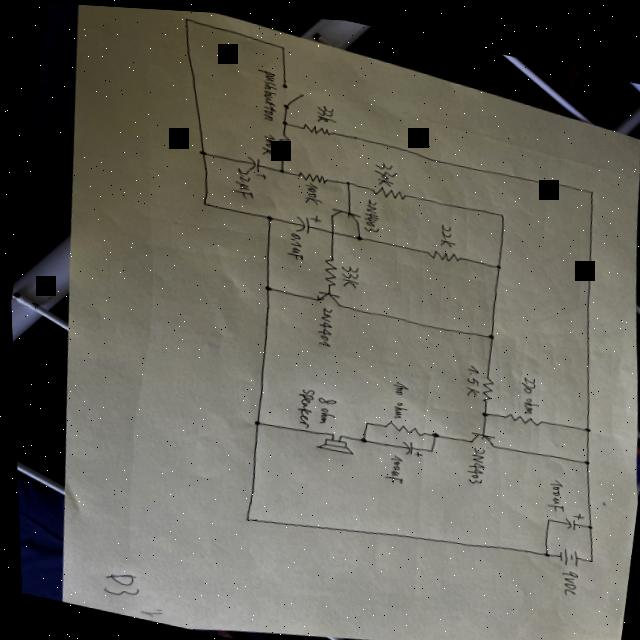capacitor: (243, 152, 268, 177), (292, 208, 317, 232), (558, 503, 582, 525), (396, 434, 421, 454)
crossover: (325, 225, 334, 232)
junction: (476, 404, 487, 413), (482, 327, 493, 335), (248, 416, 259, 424), (278, 115, 289, 123), (427, 426, 437, 434), (578, 451, 588, 459), (260, 281, 270, 289), (276, 164, 285, 172), (492, 257, 501, 265), (197, 146, 206, 154), (537, 544, 546, 552), (356, 432, 366, 439), (585, 181, 595, 188), (342, 175, 350, 183), (581, 516, 590, 523), (579, 419, 588, 426), (263, 211, 272, 218), (353, 230, 362, 237), (278, 41, 287, 48), (496, 206, 505, 213), (239, 513, 248, 520), (182, 13, 191, 20), (199, 198, 207, 205), (583, 550, 590, 557), (360, 416, 368, 422), (541, 511, 548, 517), (424, 443, 431, 449), (327, 428, 332, 433), (335, 430, 340, 434)
resistor: (499, 405, 541, 423), (381, 415, 422, 433), (318, 252, 339, 285), (369, 179, 406, 197), (423, 242, 460, 260), (475, 369, 494, 399), (294, 166, 328, 182), (298, 117, 332, 133), (273, 129, 291, 157)
source: (552, 539, 576, 562)
switch: (277, 80, 305, 109)
text: (248, 64, 282, 119), (513, 365, 541, 414), (289, 383, 315, 427), (384, 376, 410, 417), (310, 301, 334, 345), (227, 163, 257, 198), (460, 440, 485, 481), (366, 153, 399, 184), (310, 389, 336, 426), (377, 448, 404, 482), (358, 193, 381, 231), (540, 472, 564, 508), (459, 357, 480, 392), (283, 227, 306, 258), (432, 216, 457, 244), (553, 562, 575, 591), (300, 177, 323, 203), (312, 99, 338, 122), (336, 260, 358, 286), (259, 130, 275, 154)
transistor: (325, 202, 360, 222), (463, 424, 496, 445), (312, 285, 342, 305)
